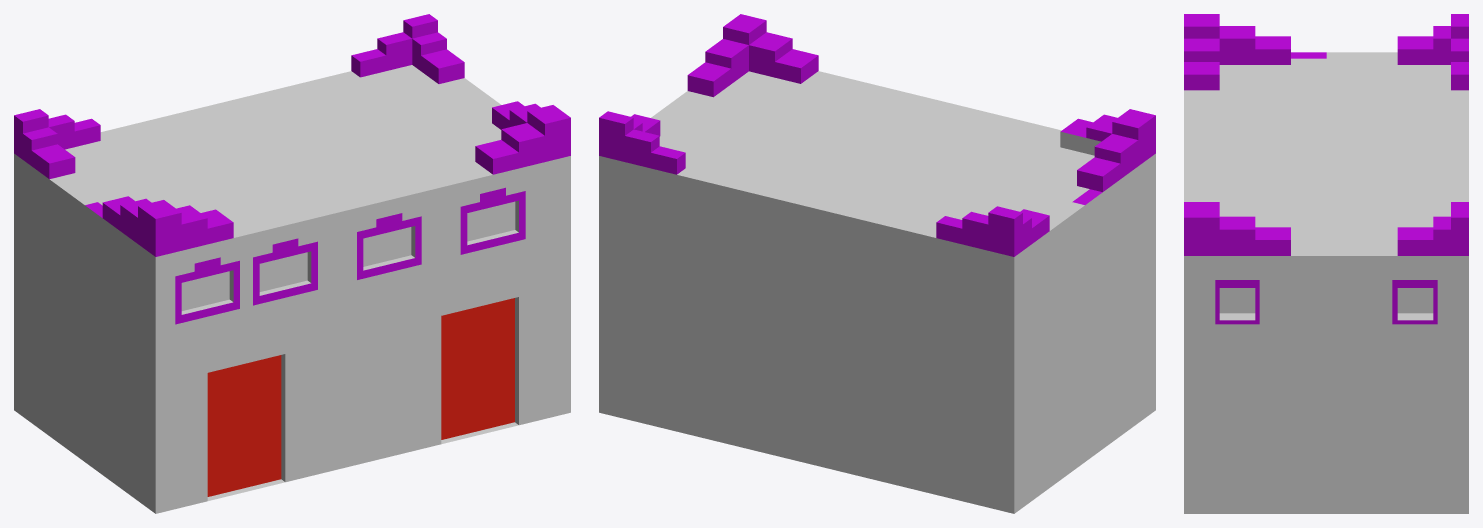
3 views of the same model, side by side, from view 1: azimuth 30°, elevation 25°; view 2: azimuth 150°, elevation 25°; view 3: azimuth 270°, elevation 25° (orthographic).
Visible parts, largest first — view 1: Cube.011; view 2: Cube.011; view 3: Cube.011.
Boxes of the visible parts, x1=… form: Cube.011: x1=14, y1=14, x2=570, y2=513; Cube.011: x1=599, y1=14, x2=1155, y2=513; Cube.011: x1=1184, y1=14, x2=1468, y2=513.
Size of the model in its own units: 338 by 230 by 200.
